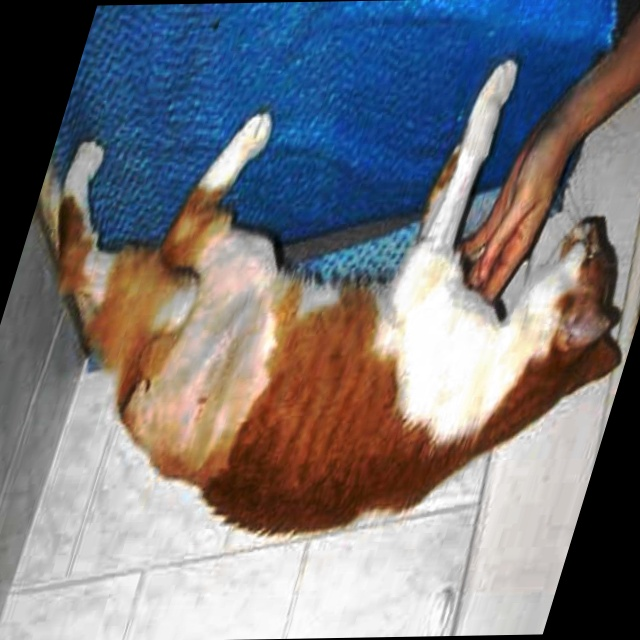hairloss: (368, 209, 580, 409), (133, 236, 303, 473)
